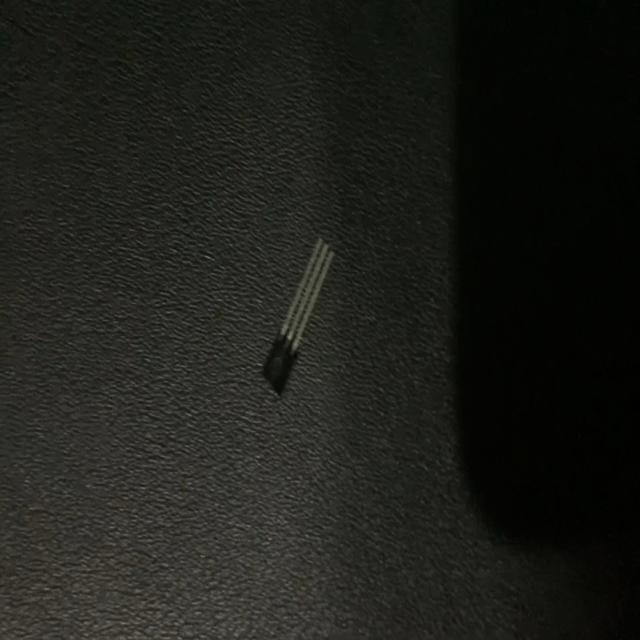BJT: (262, 236, 334, 401)
